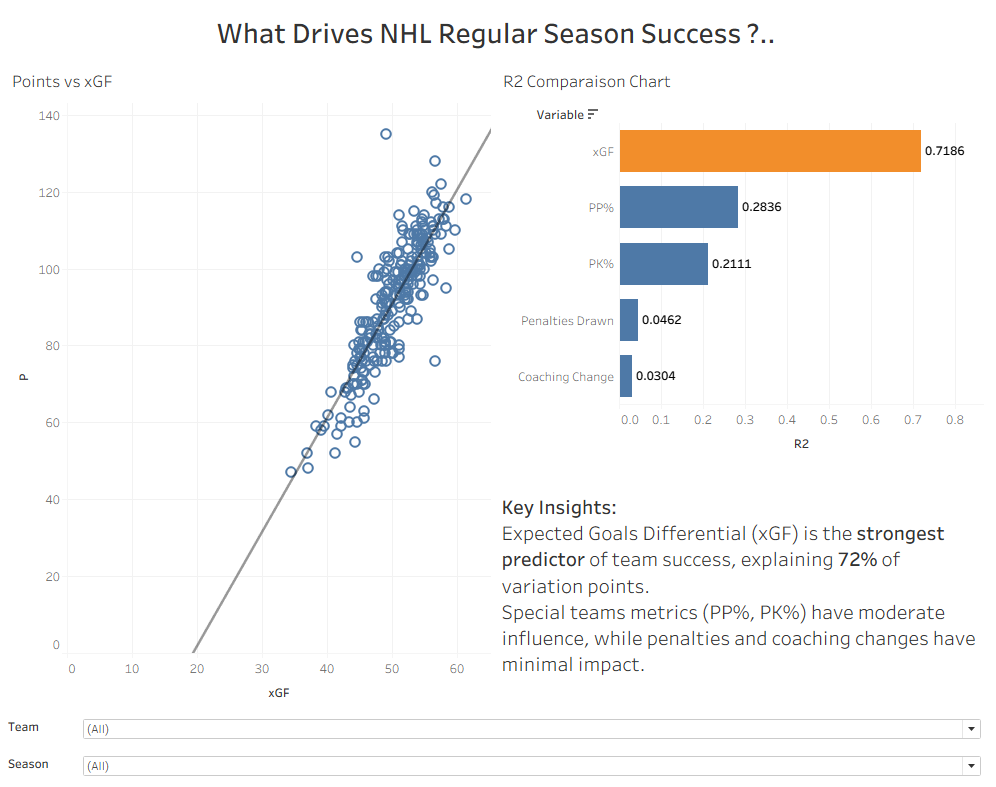

This screenshot's page, from the dashboard's own definition file:
{"tool":"tableau","page":{"name":"What","canvas":[1000,800],"ordinal":0},"visuals":[{"type":"text","box":[8,8,984,57.8]},{"type":"worksheet","title":"Sheet 1","mark":"Automatic","rows":["P"],"cols":["Calculation_0506382271004676"],"box":[8,65.8,491,651]},{"type":"worksheet","title":"Sheet 4","mark":"Automatic","rows":["Variable"],"cols":["R2"],"box":[499,65.8,493,402.2]},{"type":"text","box":[499,468,493,248.8]},{"type":"filter","title":"Sheet 1","param":"[federated.0zmhopy0iuup971efdkfk1qjtegg].[none:Team:nk]","box":[8,716.8,984,37.6]},{"type":"filter","title":"Sheet 1","param":"[federated.0zmhopy0iuup971efdkfk1qjtegg].[none:Season:nk]","box":[8,754.4,984,37.6]}]}

Visuals, with their boxes in screenshot pixels (x1, y1, x2, y2), scaled from the page's 1000x800 canvas onto the 996x787 screenshot:
text: <region>8, 8, 988, 65</region>
"Sheet 1" worksheet: <region>8, 65, 497, 705</region>
"Sheet 4" worksheet: <region>497, 65, 988, 460</region>
text: <region>497, 460, 988, 705</region>
"Sheet 1" filter: <region>8, 705, 988, 742</region>
"Sheet 1" filter: <region>8, 742, 988, 779</region>
